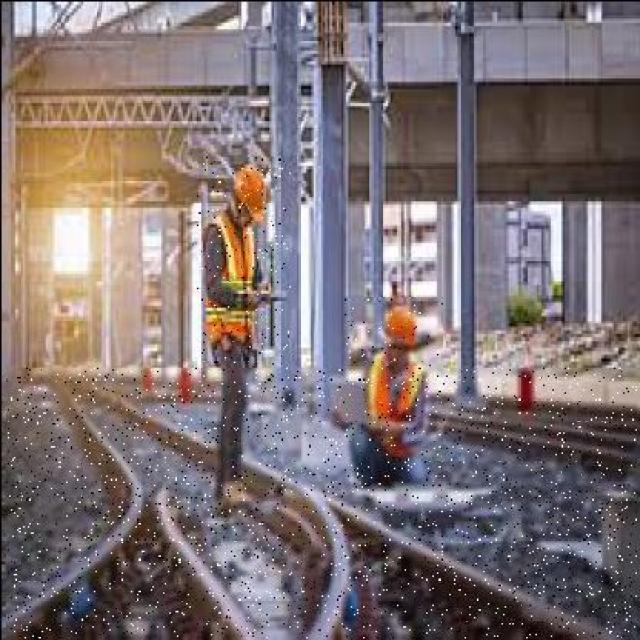rail: (6, 368, 633, 638)
